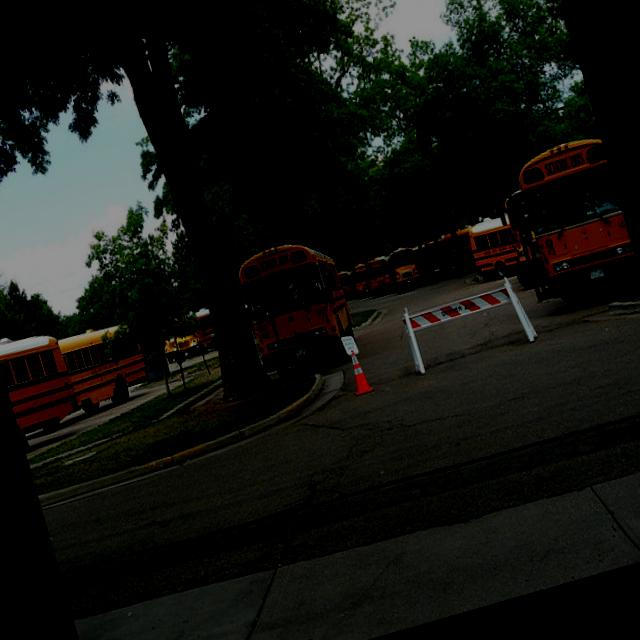Vehicle: (145, 188, 544, 388), (494, 130, 640, 328), (232, 230, 363, 382), (0, 319, 90, 455), (56, 315, 160, 422), (464, 212, 525, 286), (166, 308, 222, 363), (385, 245, 426, 294), (442, 227, 479, 270), (362, 254, 398, 298), (422, 236, 454, 274), (348, 262, 374, 300), (338, 269, 358, 301), (412, 246, 434, 274)
